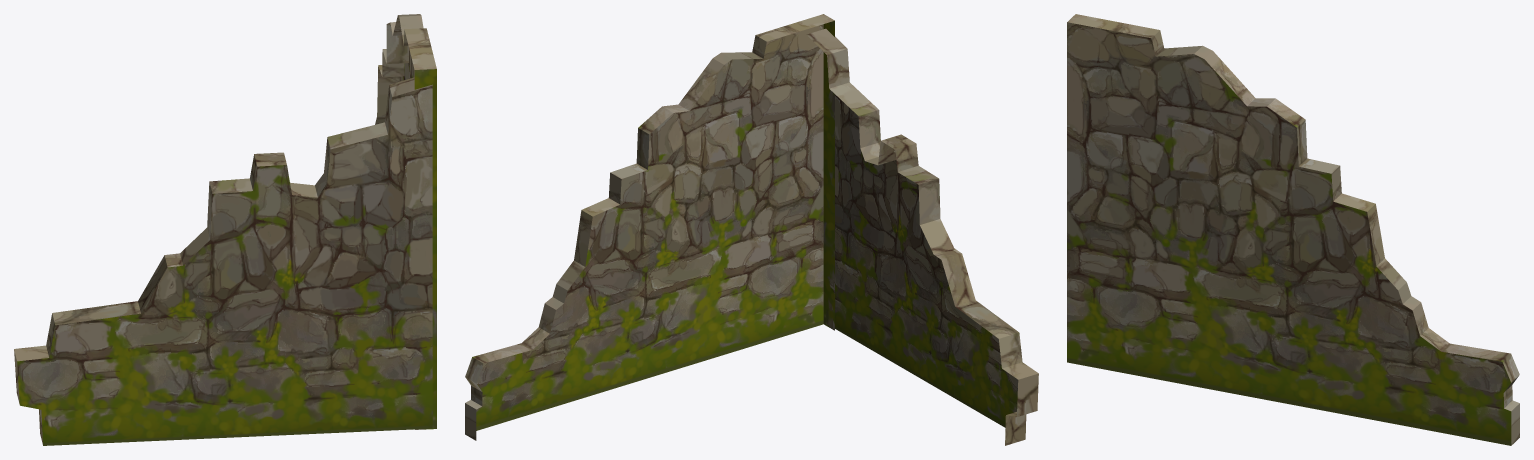
The model's file is sences_changbanpo_wujian018.FBX.
3 views of the same model, side by side, from view 1: azimuth 30°, elevation 25°; view 2: azimuth 150°, elevation 25°; view 3: azimuth 270°, elevation 25° (orthographic). The views are drawn at different scales.
Visible parts, largest first — view 1: sences_changbanpo_wujian018; view 2: sences_changbanpo_wujian018; view 3: sences_changbanpo_wujian018.
Boxes of the visible parts, <box> form: sences_changbanpo_wujian018: <box>14,14,436,445</box>; sences_changbanpo_wujian018: <box>465,14,1038,445</box>; sences_changbanpo_wujian018: <box>1067,14,1519,445</box>.
Bounding box in the file's own units: 4.4 × 3.54 × 2.93.
